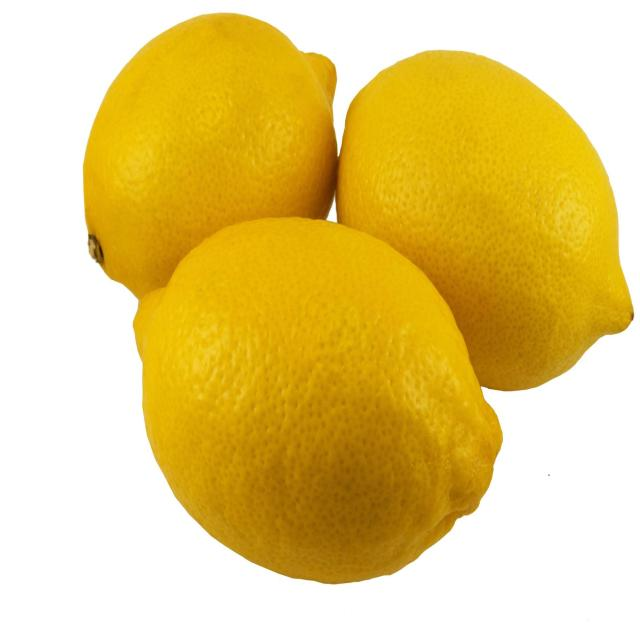lemon: (129, 209, 505, 592), (328, 43, 636, 397)
